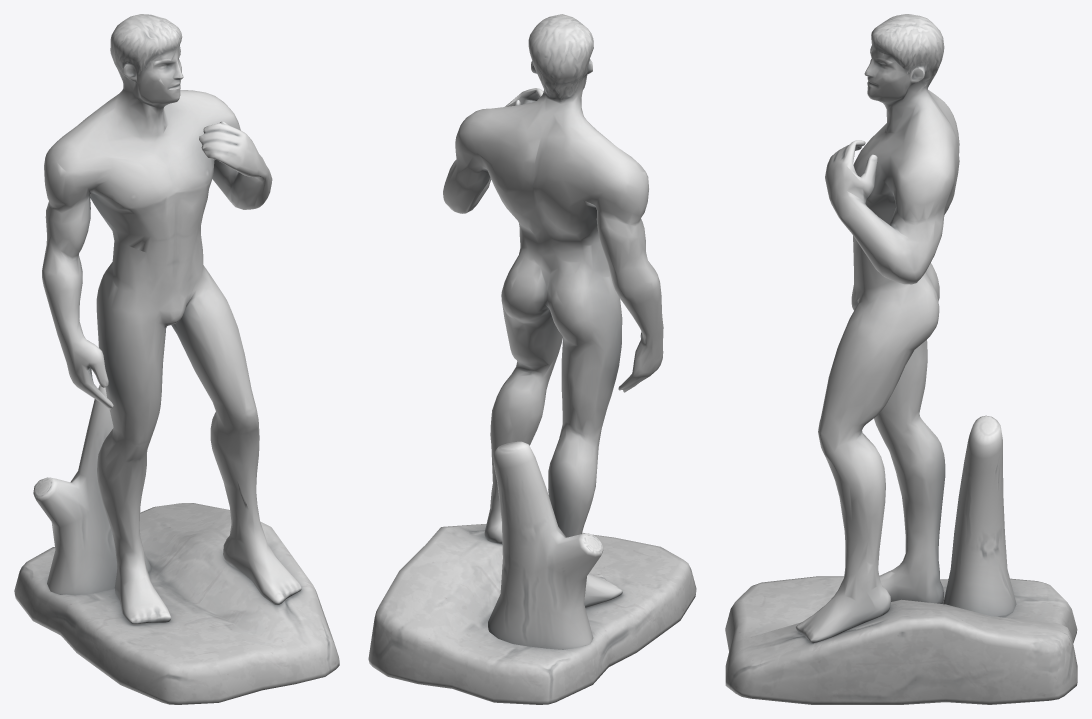
Rendered from ParkStatueGreek02.FBX.
3 renders of one model, left to right at view 1: azimuth 30°, elevation 25°; view 2: azimuth 150°, elevation 25°; view 3: azimuth 270°, elevation 25°, orthographic.
Parts seen in each view (by area): view 1: ParkStatueGreek02; view 2: ParkStatueGreek02; view 3: ParkStatueGreek02.
Part boxes in pixels (x1=…): ParkStatueGreek02: x1=14, y1=14, x2=339, y2=704; ParkStatueGreek02: x1=368, y1=14, x2=696, y2=704; ParkStatueGreek02: x1=725, y1=14, x2=1077, y2=704.
Size of what is drawn, in the model's own units: 1.13 by 2.9 by 1.48.
